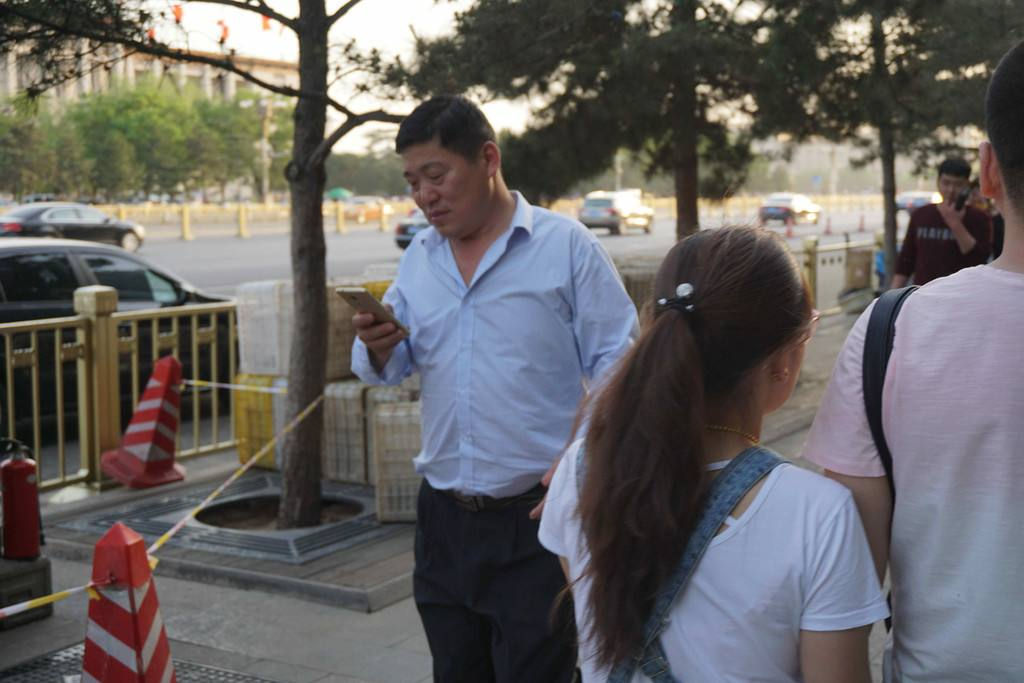reading: (333, 283, 413, 361)
